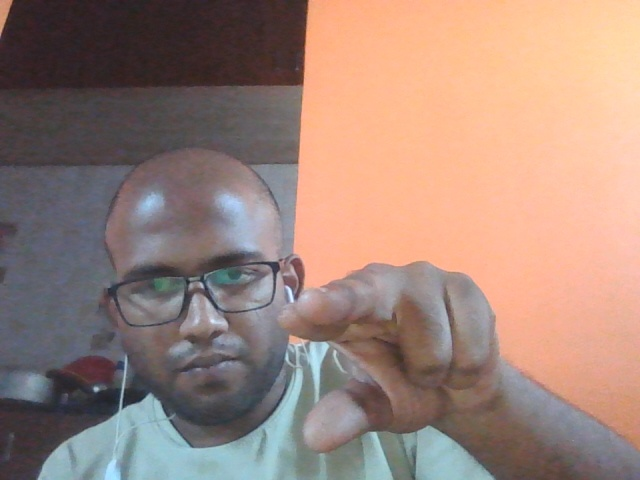no: (239, 249, 591, 471)
